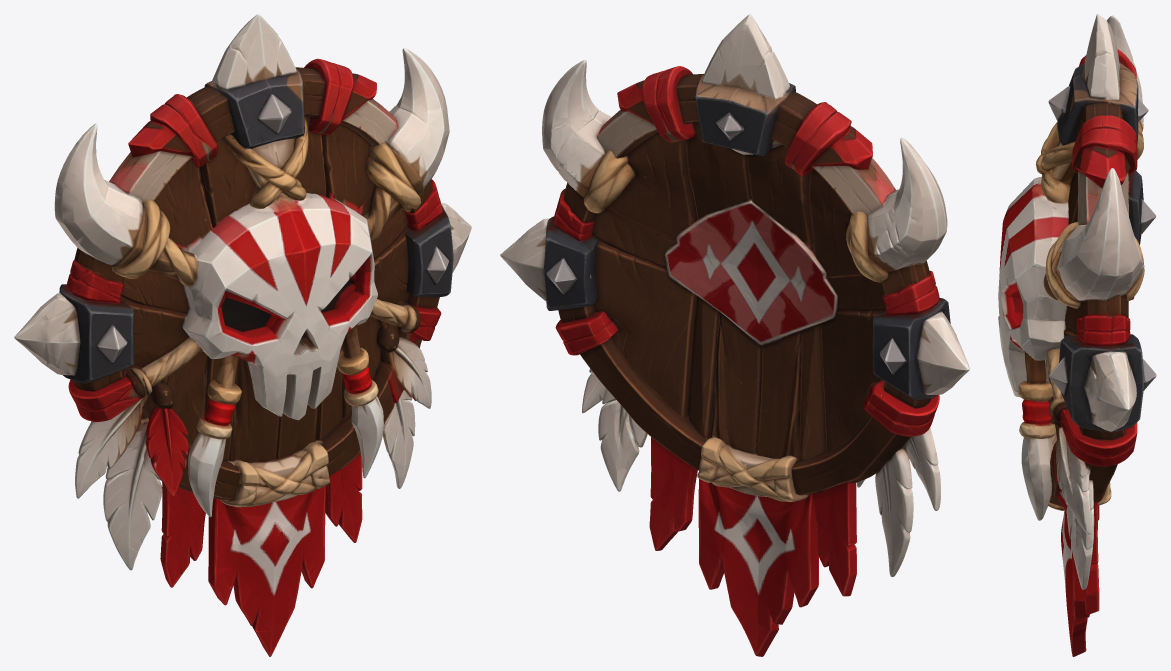
3 renders of one model, left to right at view 1: azimuth 30°, elevation 25°; view 2: azimuth 150°, elevation 25°; view 3: azimuth 270°, elevation 25°, orthographic. The views are drawn at different scales.
Parts seen in each view (by area): view 1: output_unwrapped; view 2: output_unwrapped; view 3: output_unwrapped.
Boxes of the visible parts, x1=… form: output_unwrapped: x1=14, y1=14, x2=471, y2=656; output_unwrapped: x1=500, y1=14, x2=969, y2=656; output_unwrapped: x1=998, y1=14, x2=1156, y2=656.
Size of the model in its own units: 1.43 by 1.9 by 0.4246.
Materials: 1 (1 with a texture image).
